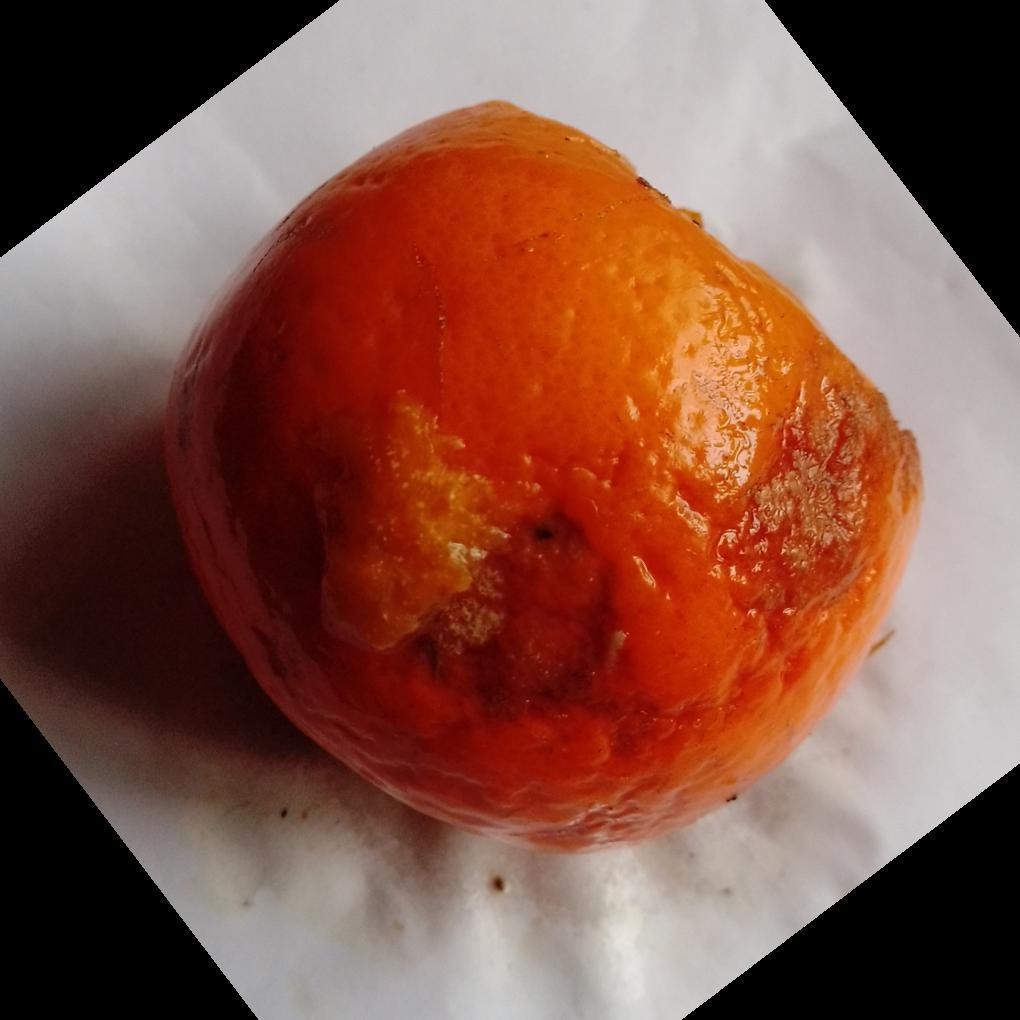FreshOrange: (159, 100, 926, 857)
